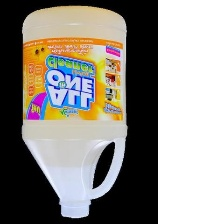cleaning_solution: (18, 3, 130, 221)
